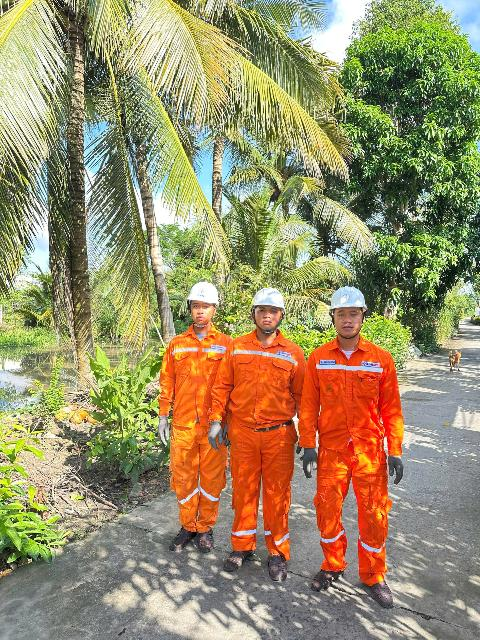gloves: (296, 438, 321, 474), (383, 449, 406, 487), (156, 414, 179, 447), (196, 423, 227, 446), (218, 419, 236, 452), (294, 435, 306, 459)
helmet: (326, 281, 371, 313), (186, 277, 232, 307), (246, 285, 292, 311)
shoes: (266, 544, 298, 585), (359, 578, 402, 608), (215, 544, 255, 574), (306, 560, 342, 591), (191, 531, 223, 558), (170, 521, 196, 552)
